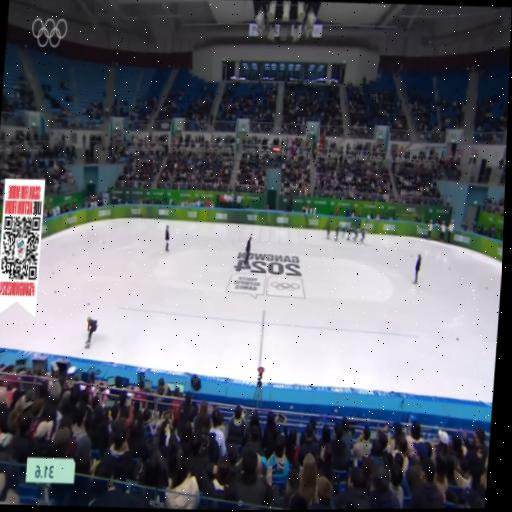Skater: (85, 317, 96, 347), (332, 221, 343, 243), (323, 221, 332, 243), (345, 222, 355, 240), (358, 226, 368, 244), (351, 225, 361, 242), (340, 220, 349, 238)
